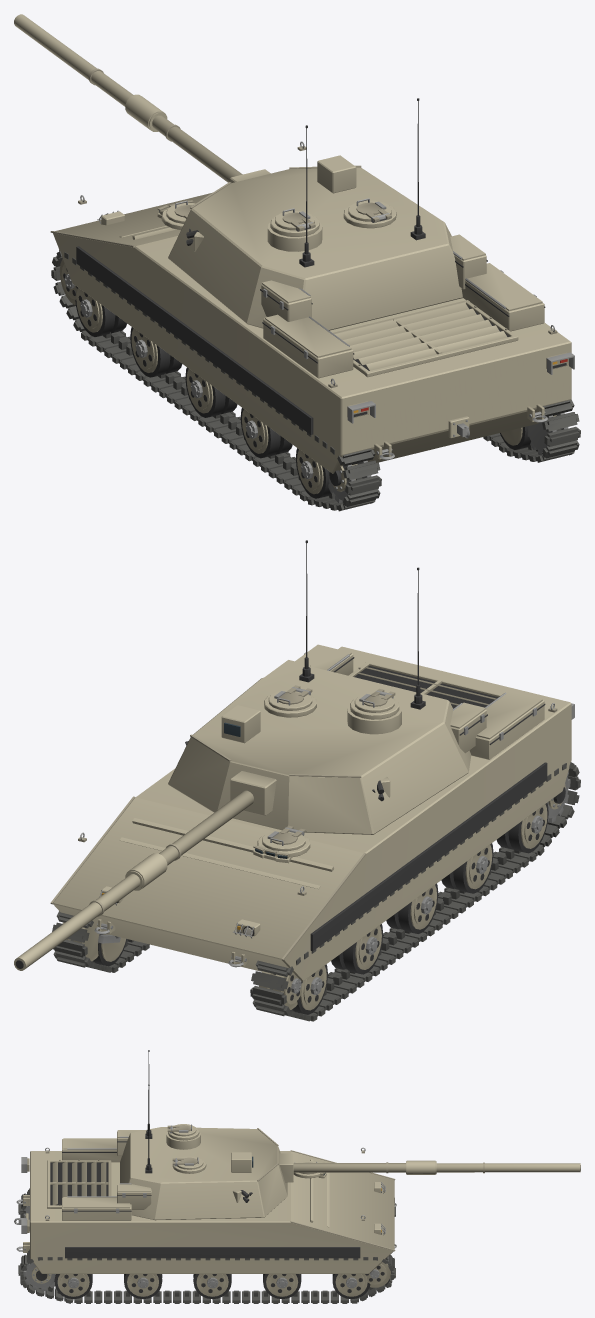
File: rus_td_sprut.glb
3 renders of one model, top to bottom at view 1: azimuth 30°, elevation 25°; view 2: azimuth 150°, elevation 25°; view 3: azimuth 270°, elevation 25°, orthographic. The views are drawn at different scales.
Parts seen in each view (by area): view 1: body, turret, barrel; view 2: body, turret, barrel; view 3: body, turret, barrel.
Part boxes in pixels (left/top/right/bottom): body: left=50, top=141, right=580, bottom=511; turret: left=168, top=98, right=487, bottom=330; barrel: left=14, top=14, right=270, bottom=182; body: left=50, top=644, right=580, bottom=1021; turret: left=168, top=540, right=487, bottom=834; barrel: left=14, top=771, right=276, bottom=970; body: left=14, top=1138, right=396, bottom=1303; turret: left=117, top=1050, right=287, bottom=1220; barrel: left=279, top=1153, right=580, bottom=1182.
Size of the model in its own units: 2.97 by 3.82 by 9.79.
